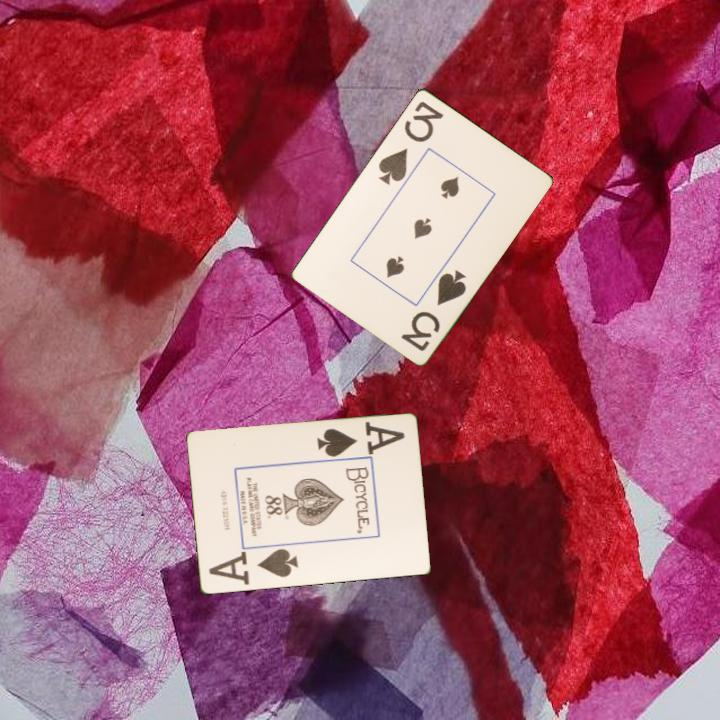3s: (375, 97, 446, 188), (397, 265, 469, 354)
As: (313, 418, 407, 460), (214, 545, 301, 581)
